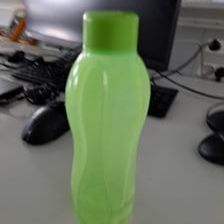bottle: (62, 7, 154, 224)
